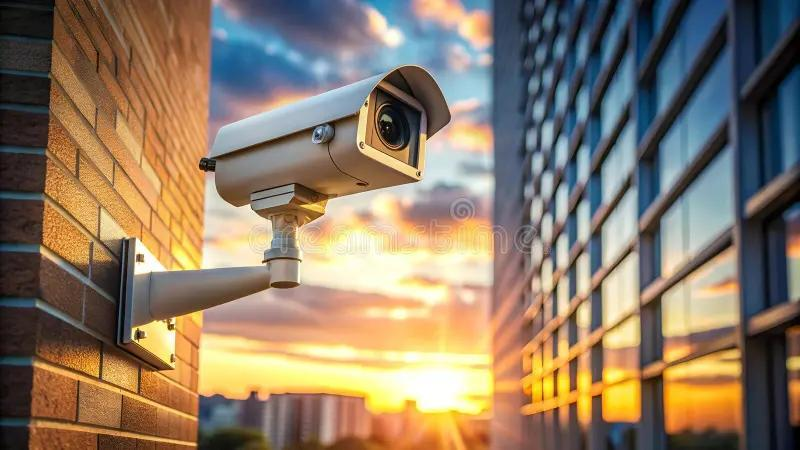------------------------------: (198, 59, 458, 216)
